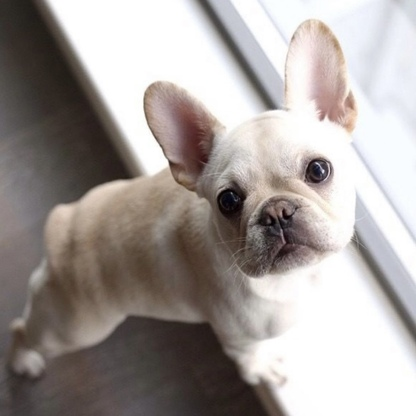bulldog: (1, 16, 363, 391)
